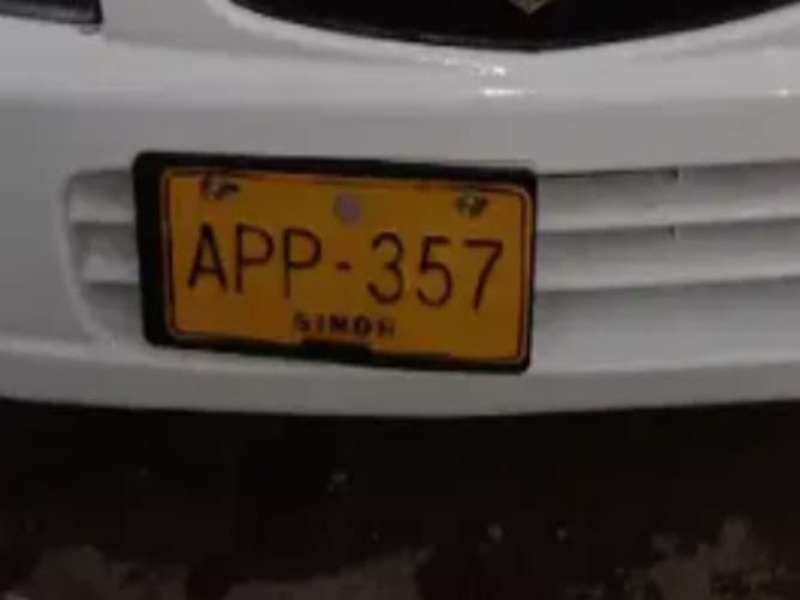License Plate: (161, 172, 532, 367)
